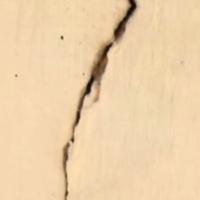crack: (56, 0, 147, 199)
